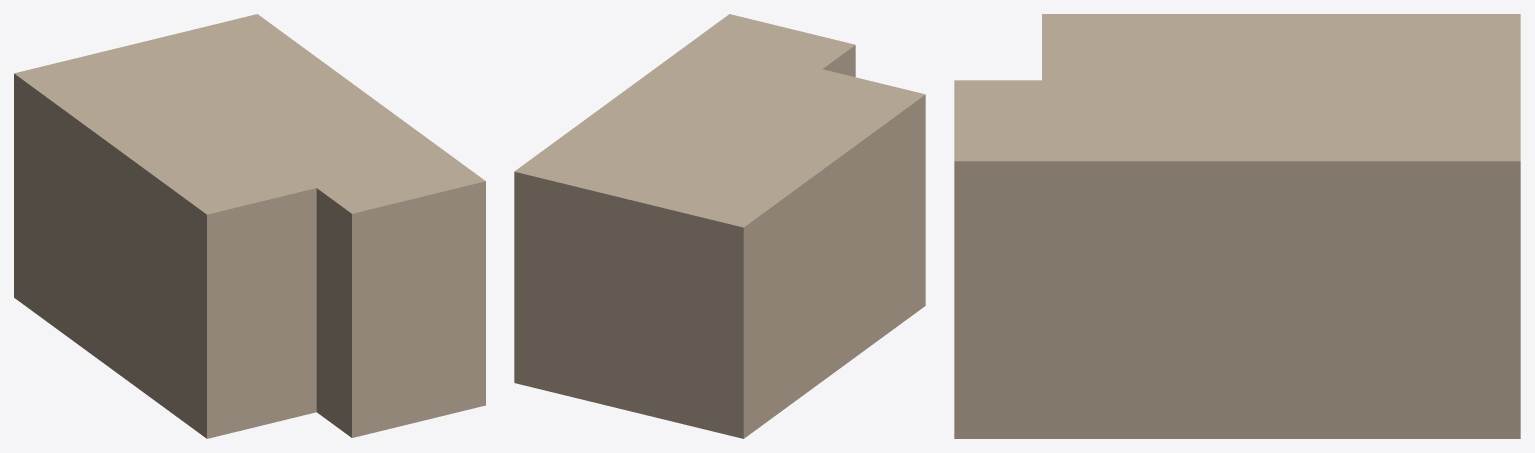
Rendered from massing.glb.
3 renders of one model, left to right at view 1: azimuth 30°, elevation 25°; view 2: azimuth 150°, elevation 25°; view 3: azimuth 270°, elevation 25°, orthographic. The views are drawn at different scales.
Visible parts, largest first — view 1: building/exterior; view 2: building/exterior; view 3: building/exterior.
Boxes of the visible parts, box(x1,y1,x2,y2) form: building/exterior: box(14, 14, 485, 438); building/exterior: box(514, 14, 925, 438); building/exterior: box(954, 14, 1520, 438).
Size of the model in its own units: 10 by 8.8 by 16.25.
